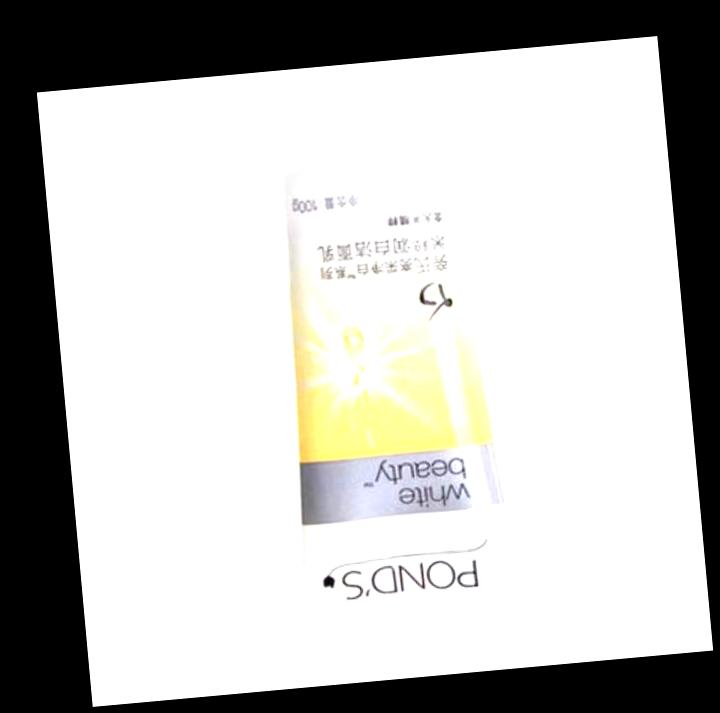cosmetic: (248, 73, 534, 660)
